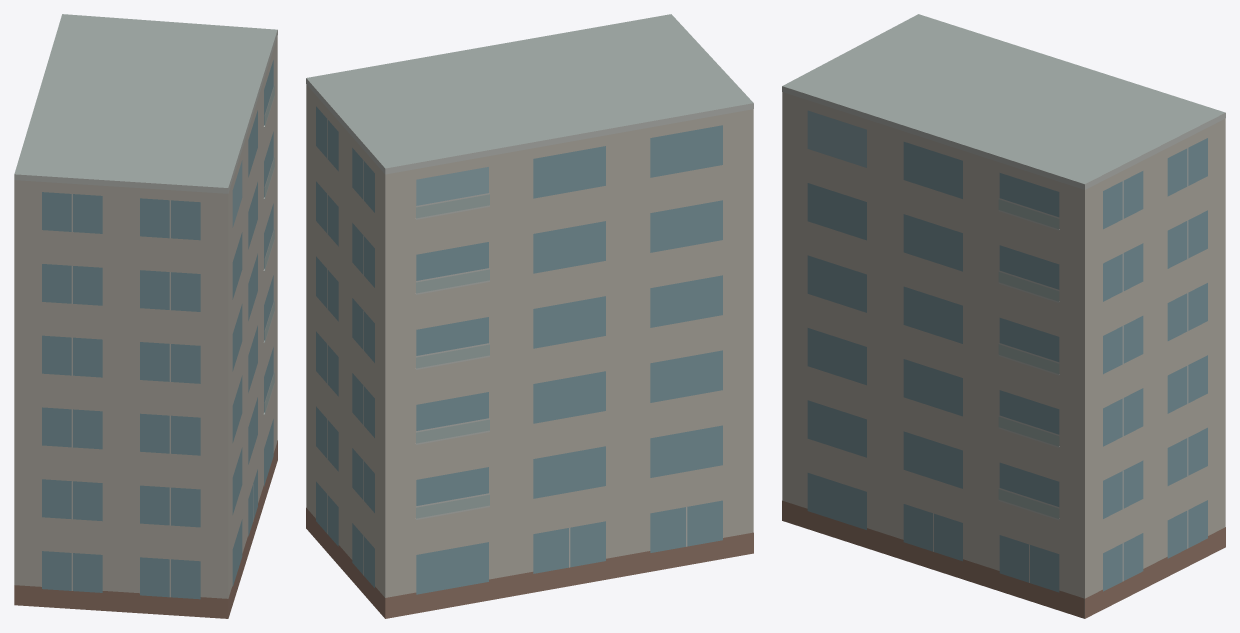
The model's file is survey-upis-32996458.glb.
The picture shows the model from 3 angles, left to right: view 1: azimuth 30°, elevation 25°; view 2: azimuth 150°, elevation 25°; view 3: azimuth 270°, elevation 25°; orthographic projection. The views are drawn at different scales.
Visible parts, largest first — view 1: survey-upis-32996458.tmp; view 2: survey-upis-32996458.tmp; view 3: survey-upis-32996458.tmp.
Part boxes in pixels (x1,y1,x2,y2): survey-upis-32996458.tmp: (14,14,277,618); survey-upis-32996458.tmp: (306,14,753,618); survey-upis-32996458.tmp: (782,14,1225,618).
Size of the model in its own units: 15.38 by 18.3 by 16.94.
